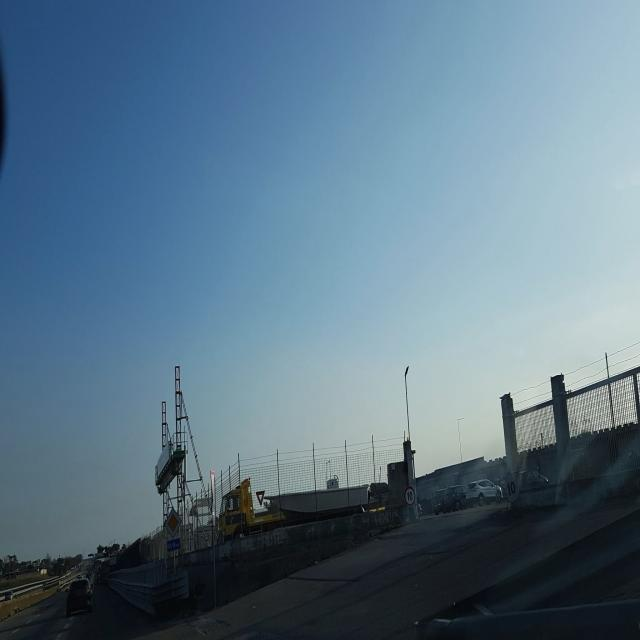car: (65, 577, 93, 615), (432, 486, 466, 513), (464, 481, 502, 505)
